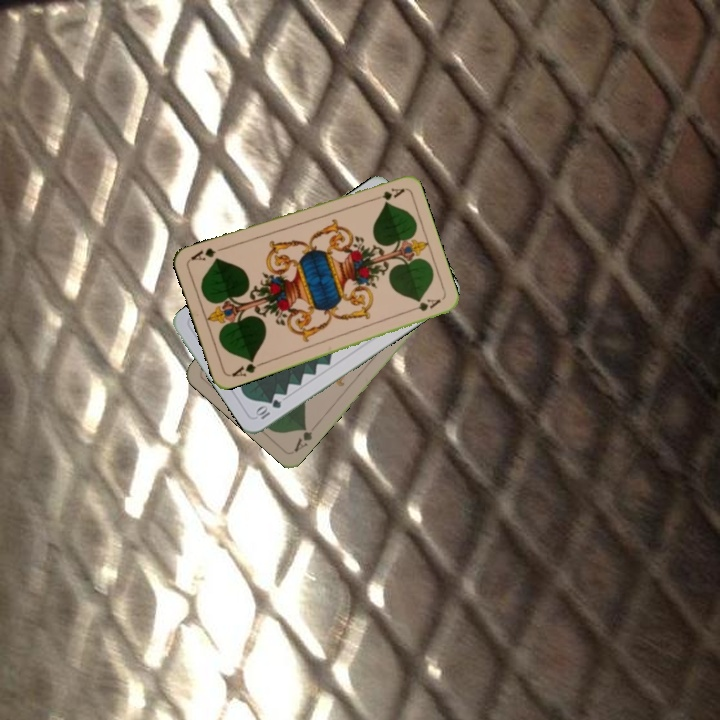G10: (252, 395, 284, 422)
GA: (290, 420, 320, 455), (228, 355, 266, 380), (366, 184, 407, 204)
